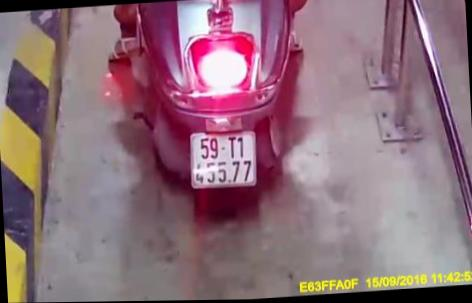LP: (188, 129, 258, 191)
